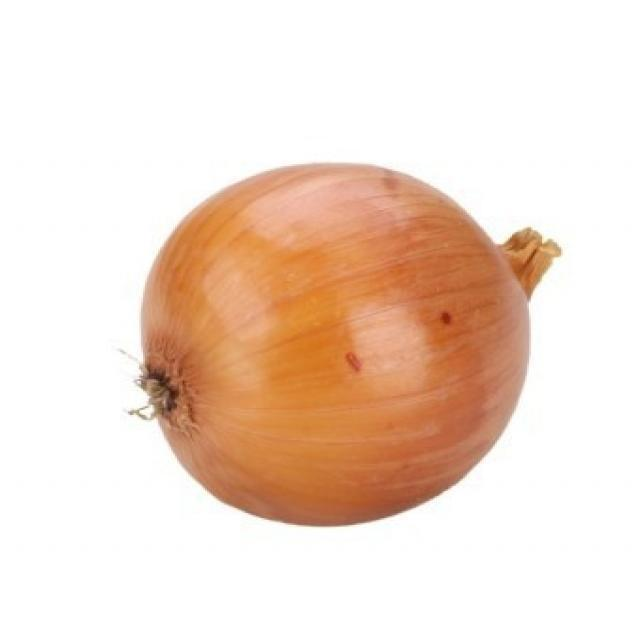Onion: (118, 163, 565, 526)
